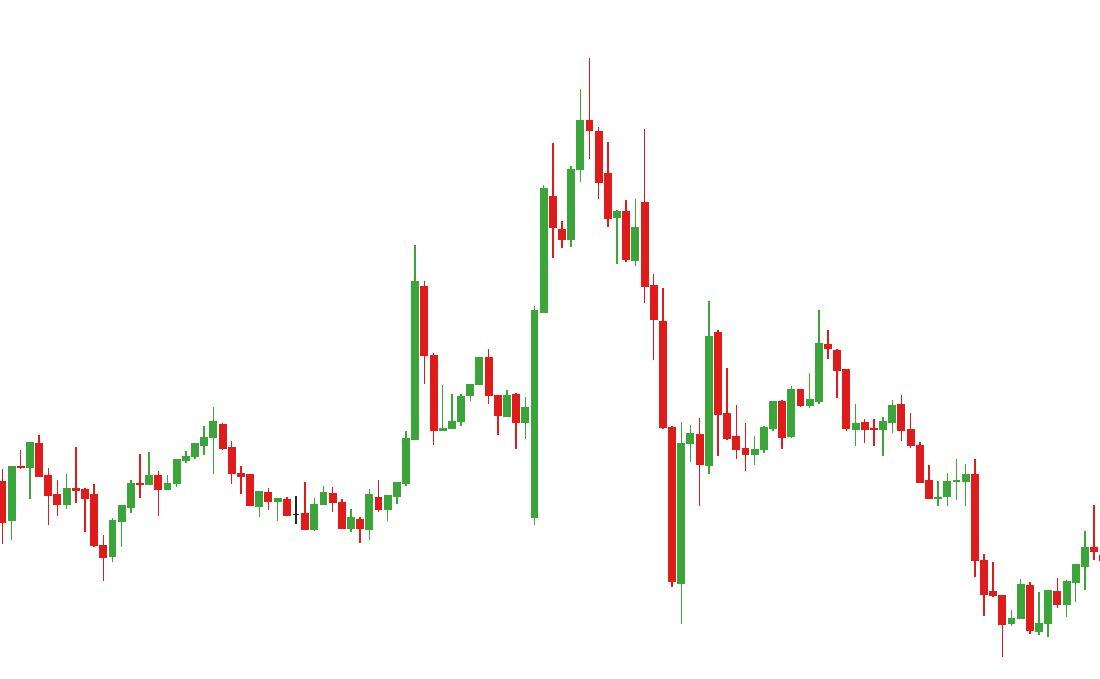buy: (357, 299, 688, 639), (1, 462, 117, 595)
